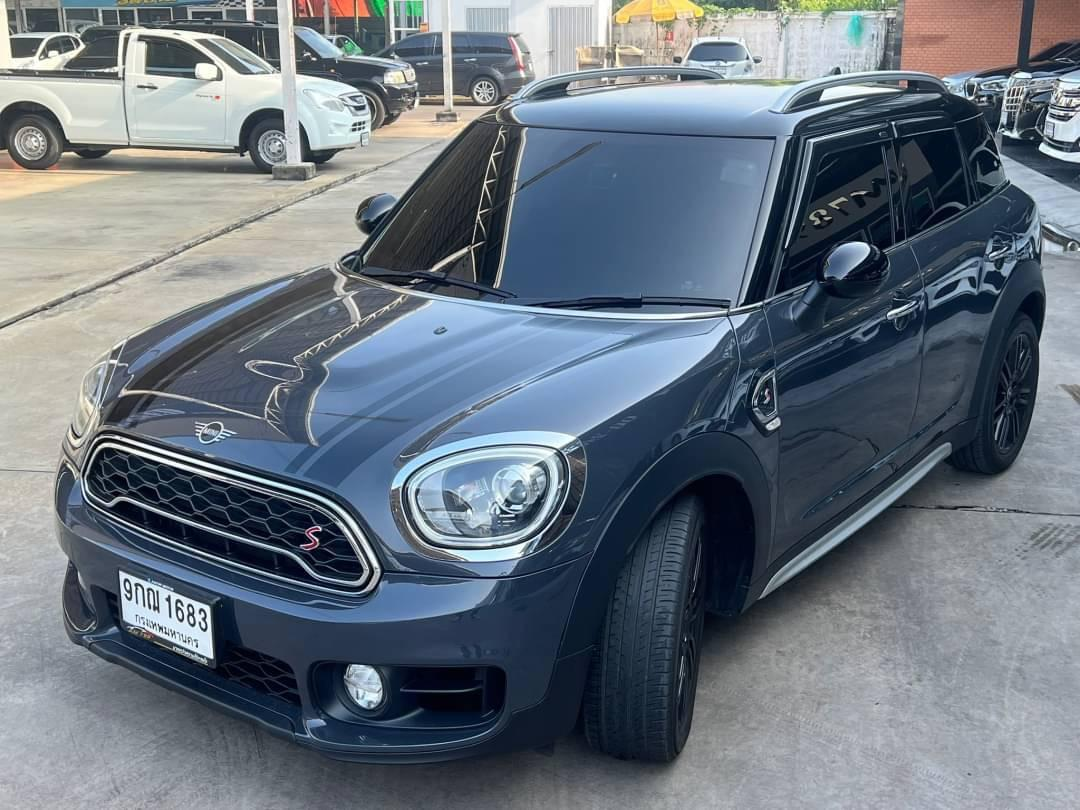license-plate: (114, 561, 228, 671)
